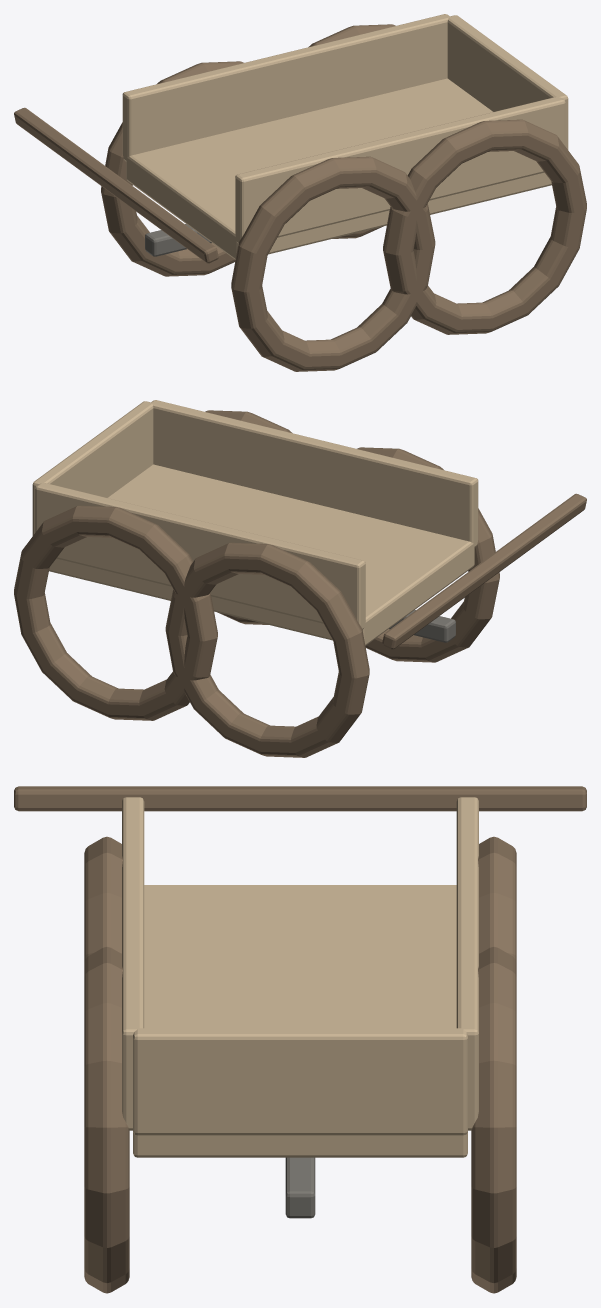
Rendered from cart.glb.
The picture shows the model from 3 angles, top to bottom: view 1: azimuth 30°, elevation 25°; view 2: azimuth 150°, elevation 25°; view 3: azimuth 270°, elevation 25°; orthographic projection. The views are drawn at different scales.
Visible parts, largest first — view 1: bed; view 2: bed; view 3: bed.
Part boxes in pixels (left/top/right/bottom): bed: left=14, top=14, right=586, bottom=371; bed: left=14, top=400, right=586, bottom=757; bed: left=14, top=786, right=586, bottom=1293.
Size of the model in its own units: 1.98 by 0.9329 by 1.54.
